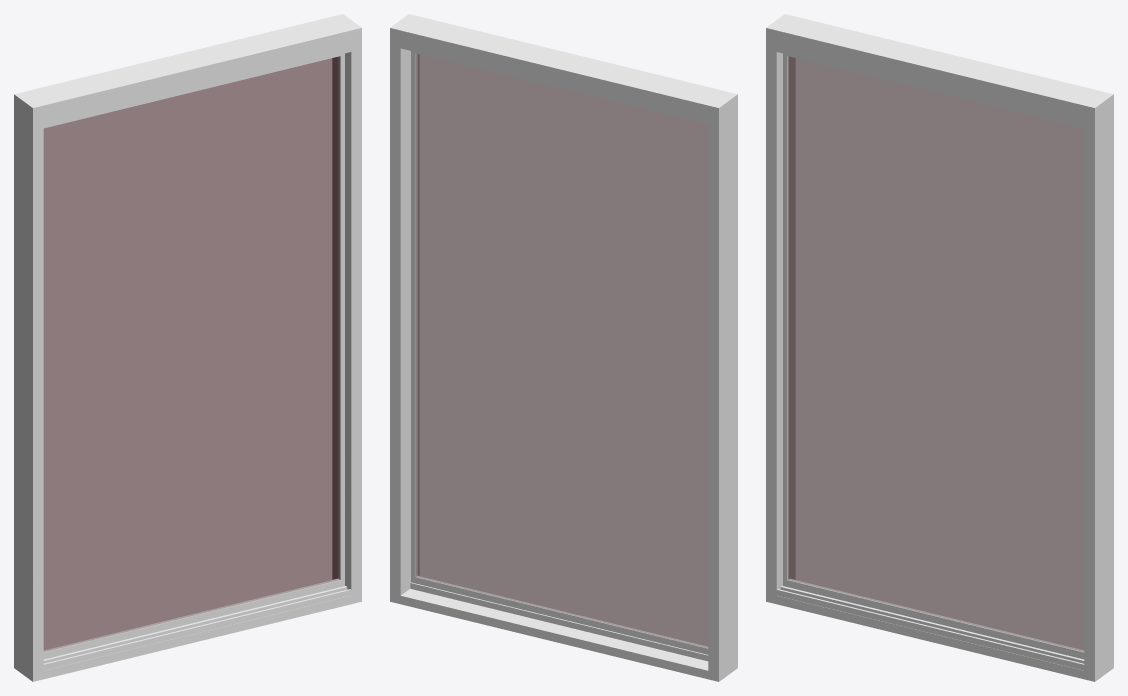
File: Glass Wall 250cm.FBX
3 renders of one model, left to right at view 1: azimuth 30°, elevation 25°; view 2: azimuth 150°, elevation 25°; view 3: azimuth 330°, elevation 25°, orthographic.
Visible parts, largest first — view 1: Glass wall 250 cm; view 2: Glass wall 250 cm; view 3: Glass wall 250 cm.
Boxes of the visible parts, box(x1,y1,x2,y2) form: Glass wall 250 cm: box(14, 14, 361, 681); Glass wall 250 cm: box(390, 14, 737, 681); Glass wall 250 cm: box(766, 14, 1113, 681).
Bounding box in the file's own units: 150 × 250 × 15.
